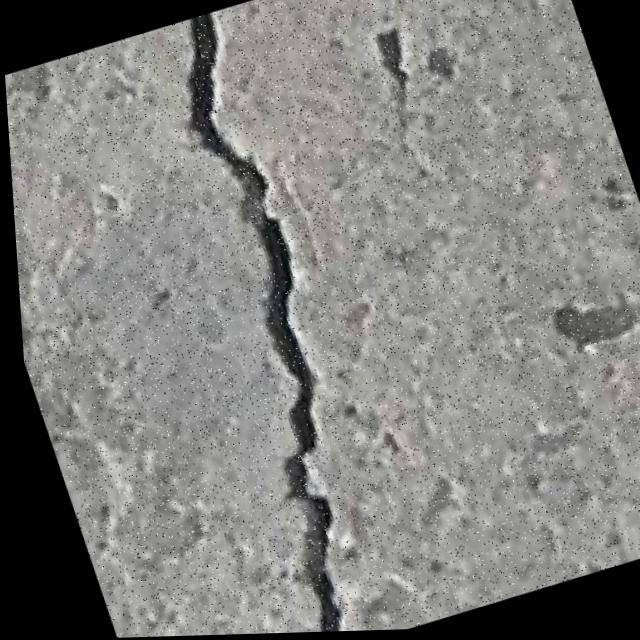Crack: (100, 1, 441, 638)
